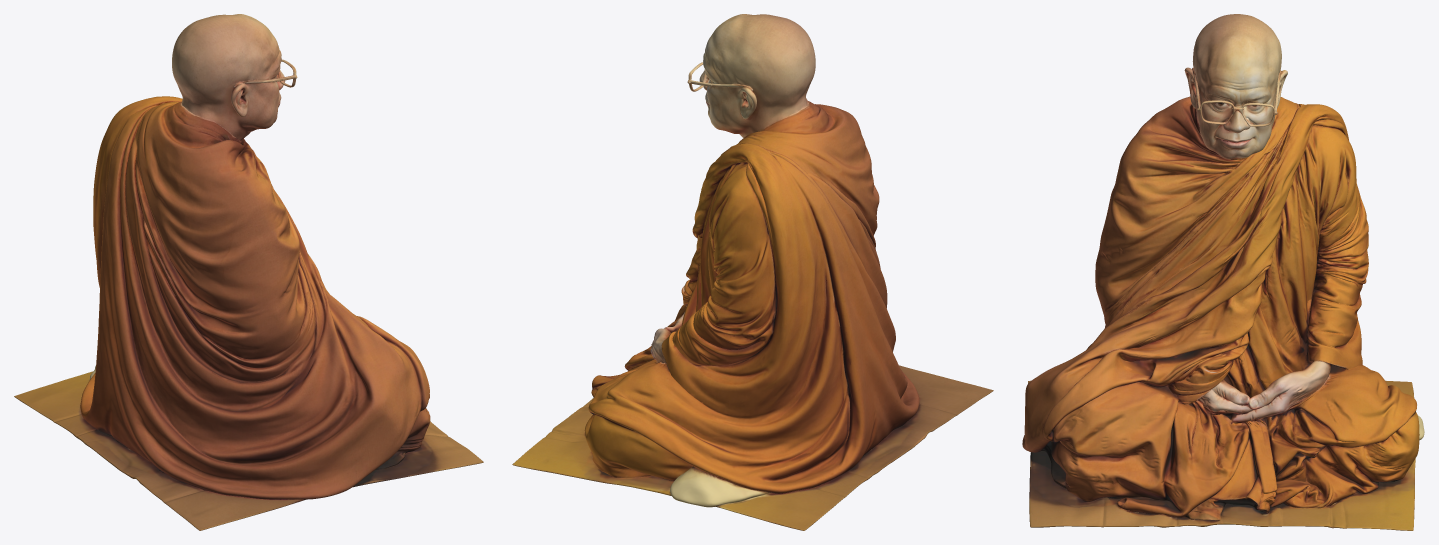
File: monk2.glb
3 views of the same model, side by side, from view 1: azimuth 30°, elevation 25°; view 2: azimuth 150°, elevation 25°; view 3: azimuth 270°, elevation 25° (orthographic). The views are drawn at different scales.
Parts seen in each view (by area): view 1: tripo_node_69c67744-b35b-4905-98c7-70c075d2a707; view 2: tripo_node_69c67744-b35b-4905-98c7-70c075d2a707; view 3: tripo_node_69c67744-b35b-4905-98c7-70c075d2a707.
Boxes of the visible parts, x1=… form: tripo_node_69c67744-b35b-4905-98c7-70c075d2a707: x1=14, y1=14, x2=483, y2=530; tripo_node_69c67744-b35b-4905-98c7-70c075d2a707: x1=512, y1=14, x2=993, y2=530; tripo_node_69c67744-b35b-4905-98c7-70c075d2a707: x1=1022, y1=14, x2=1424, y2=530.
Bounding box in the file's own units: 0.7089 × 0.9798 × 0.8321.
1 material, 1 textured.
